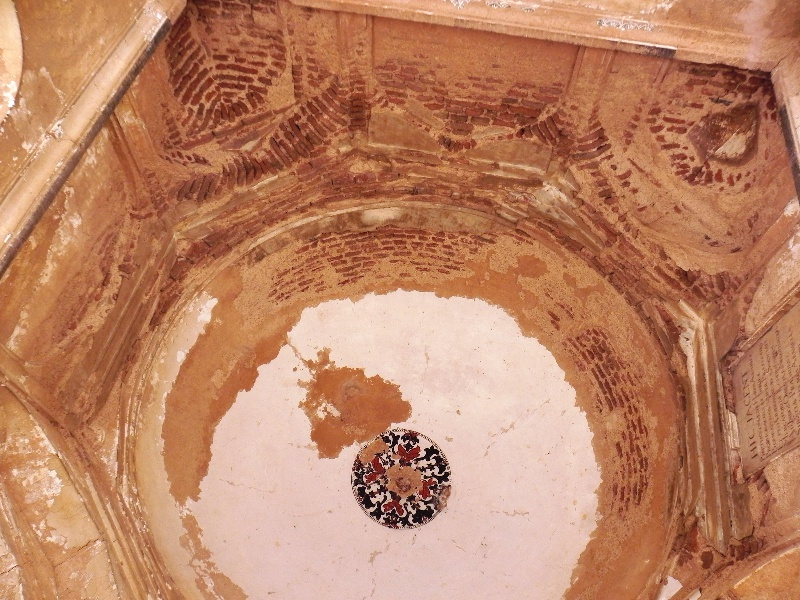Exposed Bricks: (158, 8, 618, 287), (563, 312, 655, 516)
Spalling: (297, 354, 413, 428)
